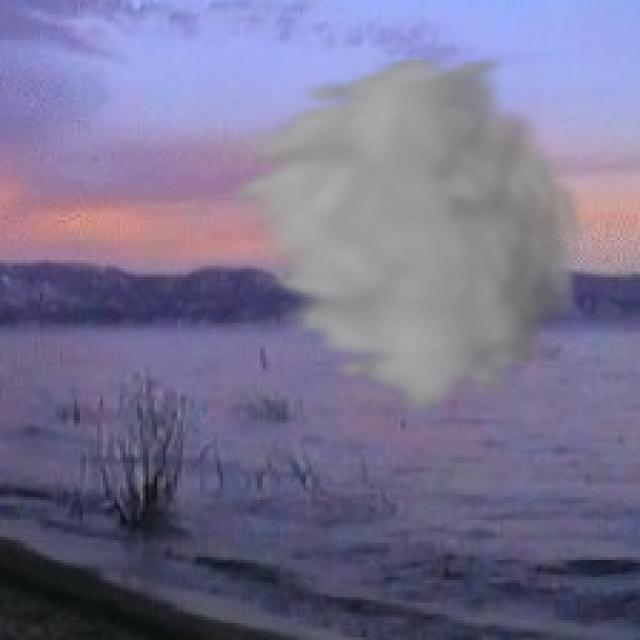smoke: (214, 51, 592, 420)
